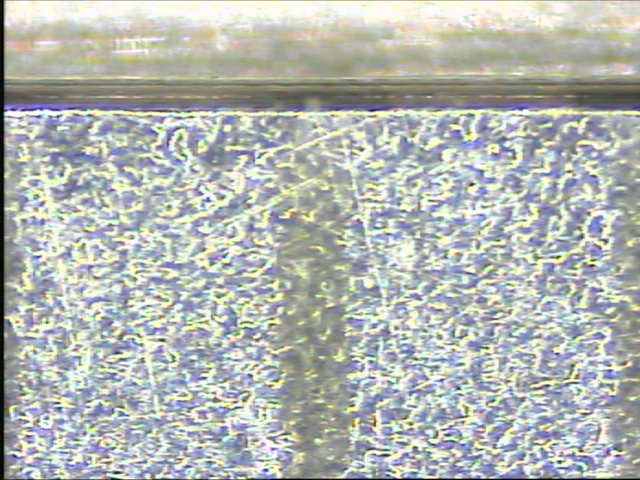line: (275, 118, 351, 477)
